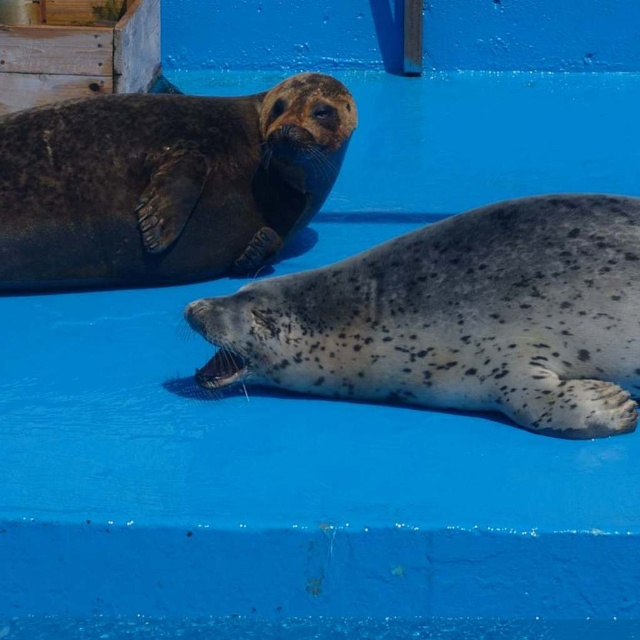Harbor seal: (177, 196, 639, 439), (0, 71, 360, 297)
